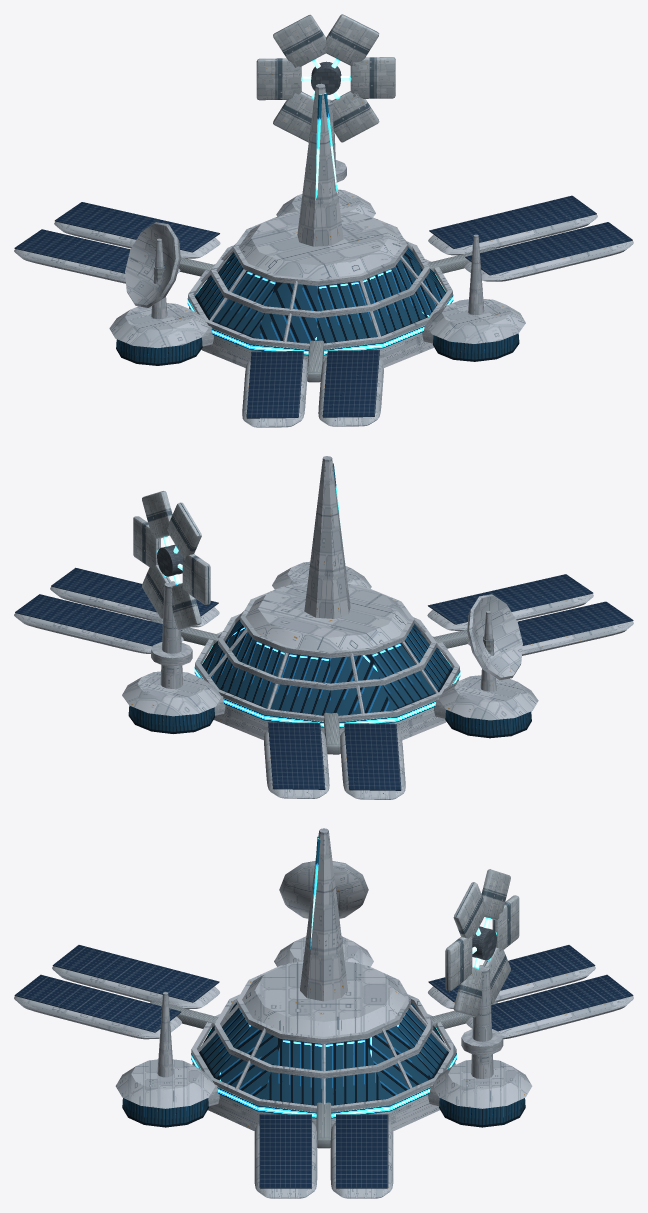
Rendered from alliance_research_outpost_far.glb.
The picture shows the model from 3 angles, top to bottom: view 1: azimuth 30°, elevation 25°; view 2: azimuth 150°, elevation 25°; view 3: azimuth 270°, elevation 25°; orthographic projection. The views are drawn at different scales.
Visible parts, largest first — view 1: alliance_research_outpost_far_source; view 2: alliance_research_outpost_far_source; view 3: alliance_research_outpost_far_source.
Boxes of the visible parts, <box> form: alliance_research_outpost_far_source: <box>14,14,633,427</box>; alliance_research_outpost_far_source: <box>14,456,633,799</box>; alliance_research_outpost_far_source: <box>14,828,633,1198</box>.
Size of the model in its own units: 7.37 by 3.37 by 7.59.
Materials: 1 (1 with a texture image).
